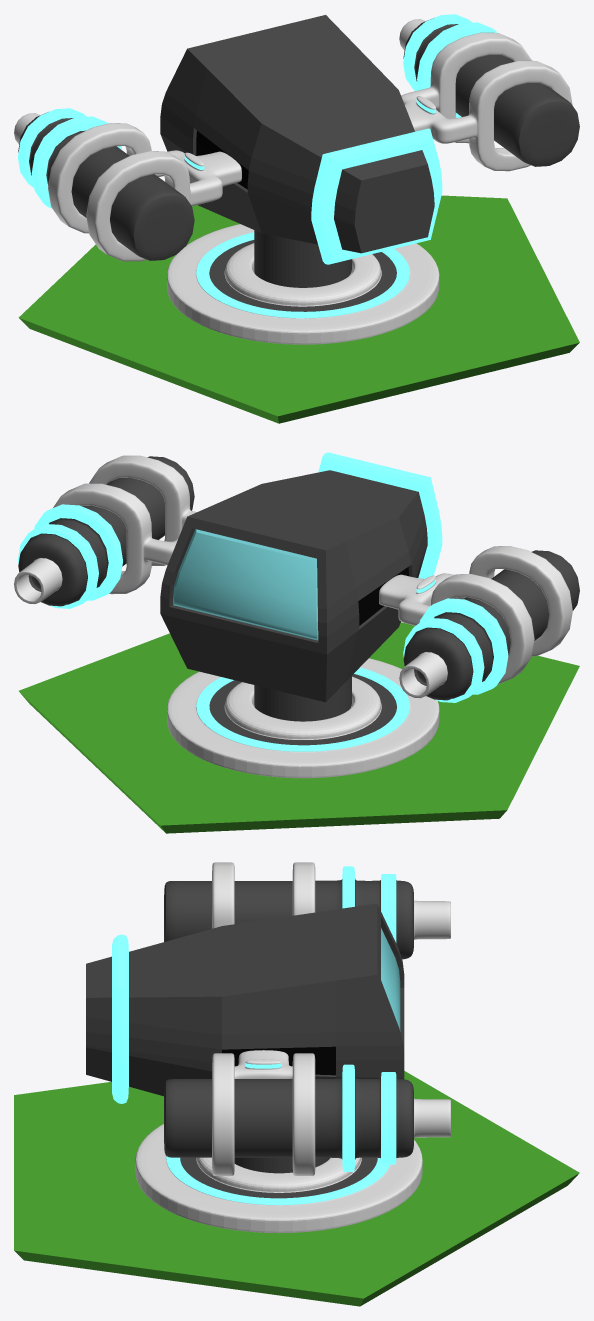
File: Small_turret_1.fbx
3 renders of one model, top to bottom at view 1: azimuth 30°, elevation 25°; view 2: azimuth 150°, elevation 25°; view 3: azimuth 270°, elevation 25°, orthographic. The views are drawn at different scales.
Visible parts, largest first — view 1: DodecagonVideTuile.001, Cube, Cube.001, Cylinder, Cylinder.001; view 2: Cube, DodecagonVideTuile.001, Cube.001, Cylinder, Cylinder.001; view 3: DodecagonVideTuile.001, Cube, Cube.001, Cylinder, Cylinder.001.
Part boxes in pixels (left/top/right/bottom): DodecagonVideTuile.001: left=18, top=195, right=579, bottom=423; Cube: left=160, top=15, right=442, bottom=264; Cube.001: left=14, top=14, right=579, bottom=261; Cylinder: left=167, top=224, right=439, bottom=344; Cylinder.001: left=209, top=230, right=351, bottom=287; Cube: left=160, top=452, right=442, bottom=702; DodecagonVideTuile.001: left=19, top=622, right=579, bottom=833; Cube.001: left=14, top=455, right=579, bottom=702; Cylinder: left=167, top=658, right=439, bottom=778; Cylinder.001: left=229, top=676, right=351, bottom=721; DodecagonVideTuile.001: left=14, top=1071, right=579, bottom=1306; Cube: left=86, top=903, right=404, bottom=1103; Cube.001: left=164, top=862, right=450, bottom=1175; Cylinder: left=135, top=1124, right=422, bottom=1233; Cylinder.001: left=234, top=1157, right=329, bottom=1173.
Size of the model in its own units: 111 by 50.62 by 105.
